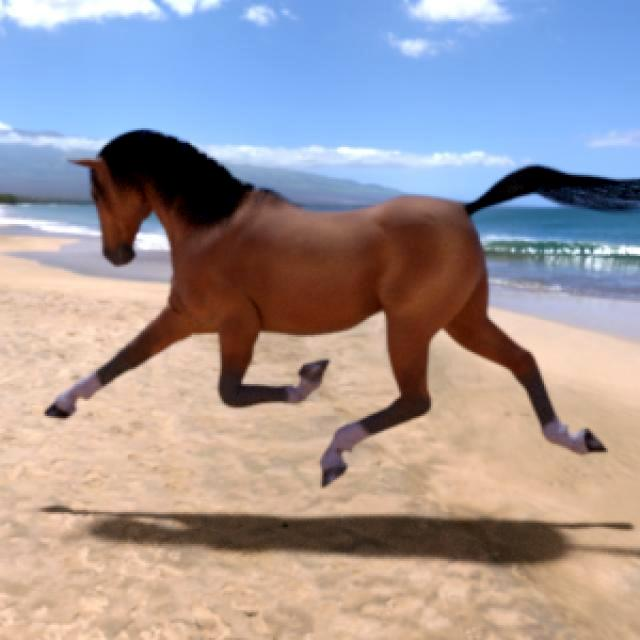horse: (46, 131, 640, 484)
